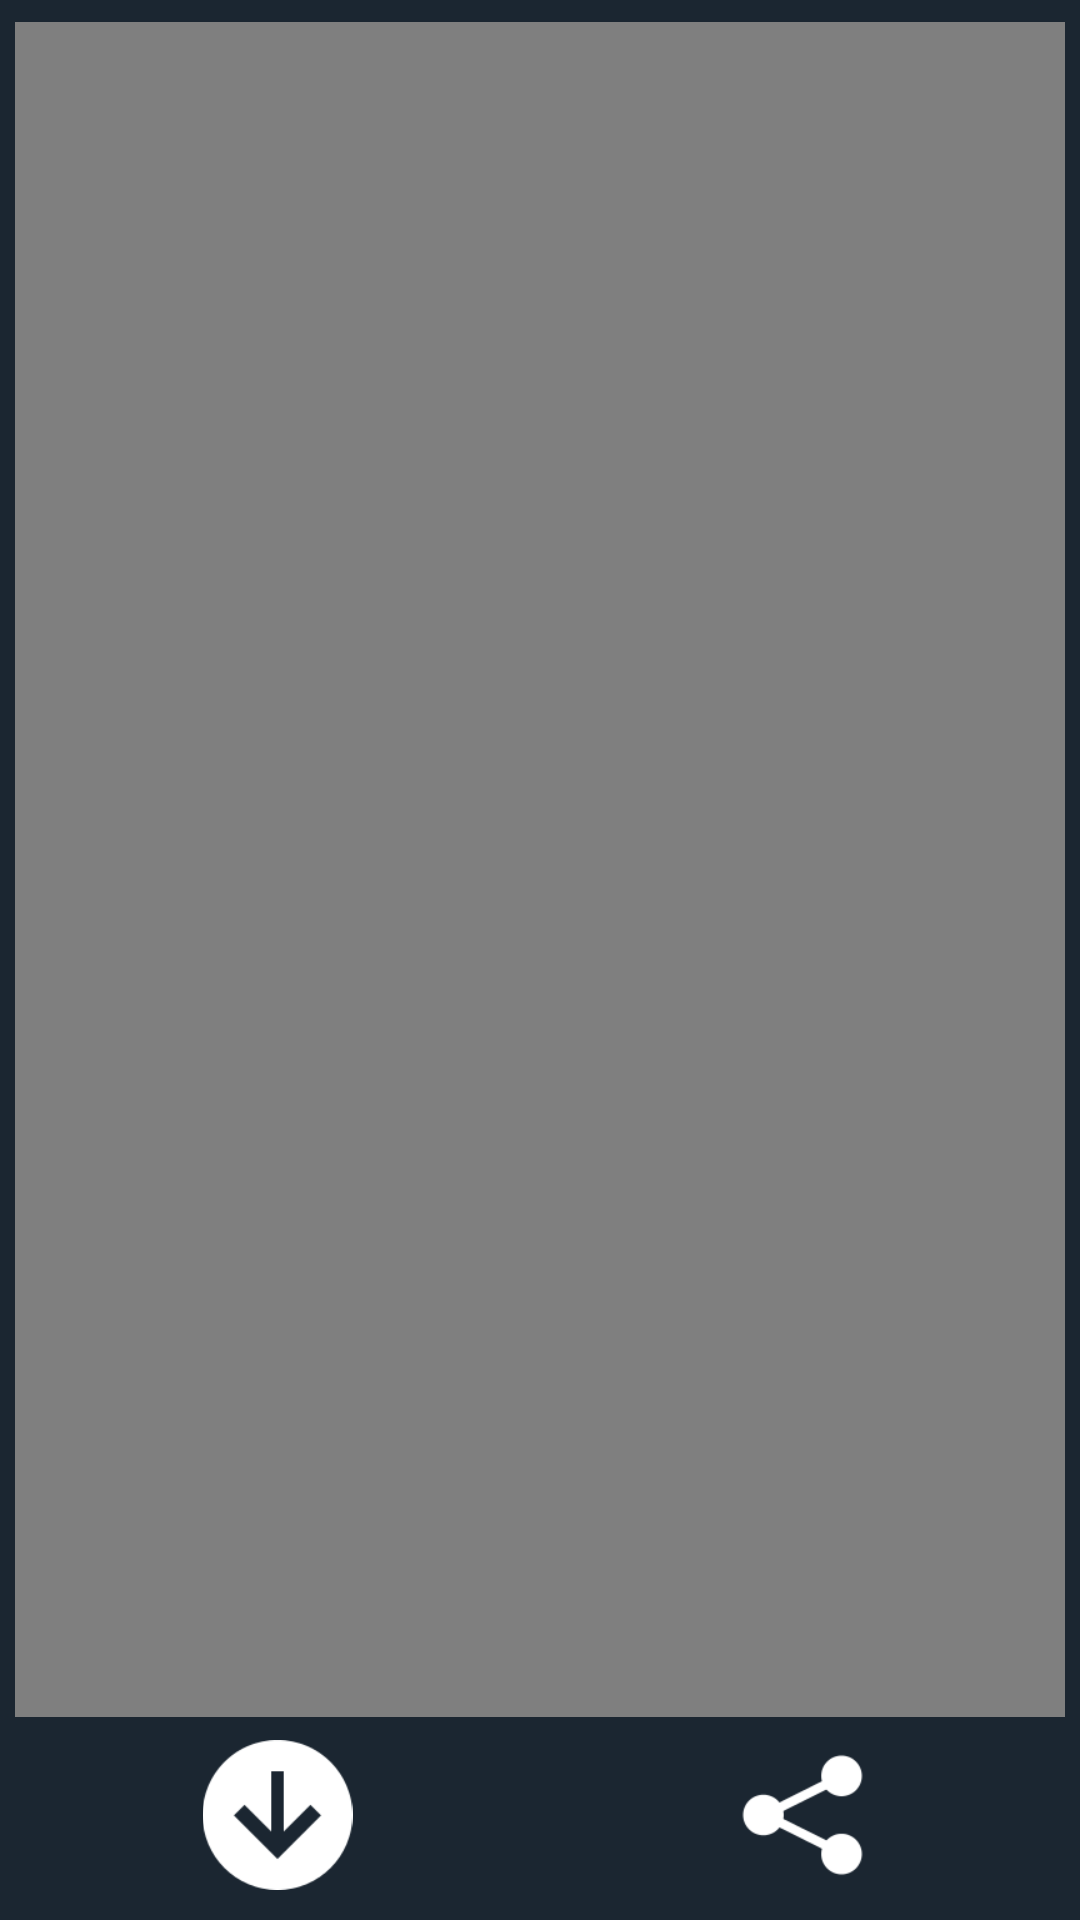

Where to tap for icons on this 1080w x 1920h app screen, as point (x, y):
download: point (278, 1815)
share: point (802, 1815)
